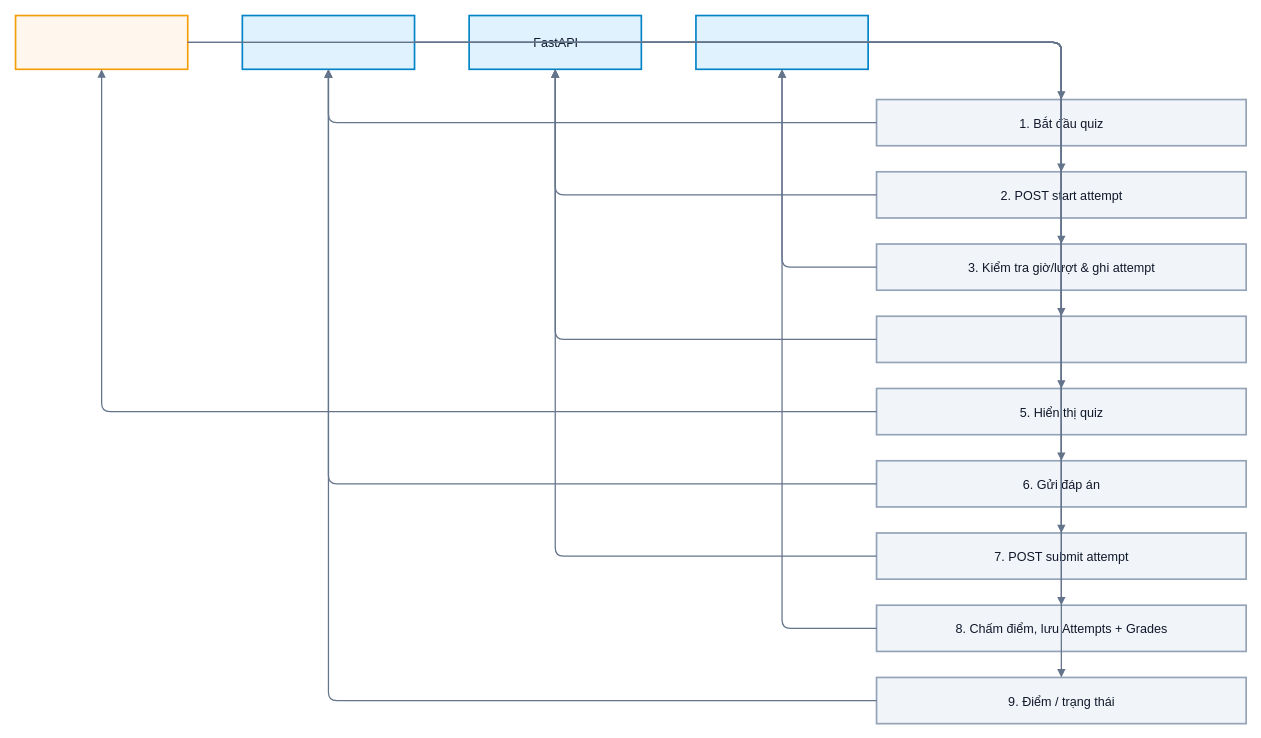
The diagram is 1261 pixels wide and 738 high, and some of its shapes have lost their labels. The box of each missing label's shape, as (x1, y1, x2, y2) in pixels:
4. AttemptId / câu hỏi hợp lệ: (875, 315, 1247, 363)
React / Vite: (241, 14, 415, 70)
Sinh viên: (14, 14, 188, 70)
SQL Server: (695, 14, 869, 70)
